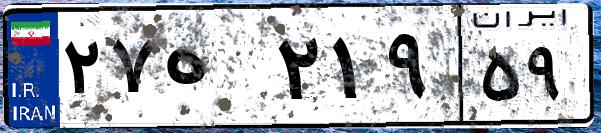1: (330, 28, 385, 110)
2: (270, 28, 330, 110), (57, 26, 110, 100)
5: (475, 38, 525, 113)
7: (110, 28, 158, 98)
9: (385, 28, 445, 110), (525, 38, 570, 115)
ه: (158, 20, 270, 120)
